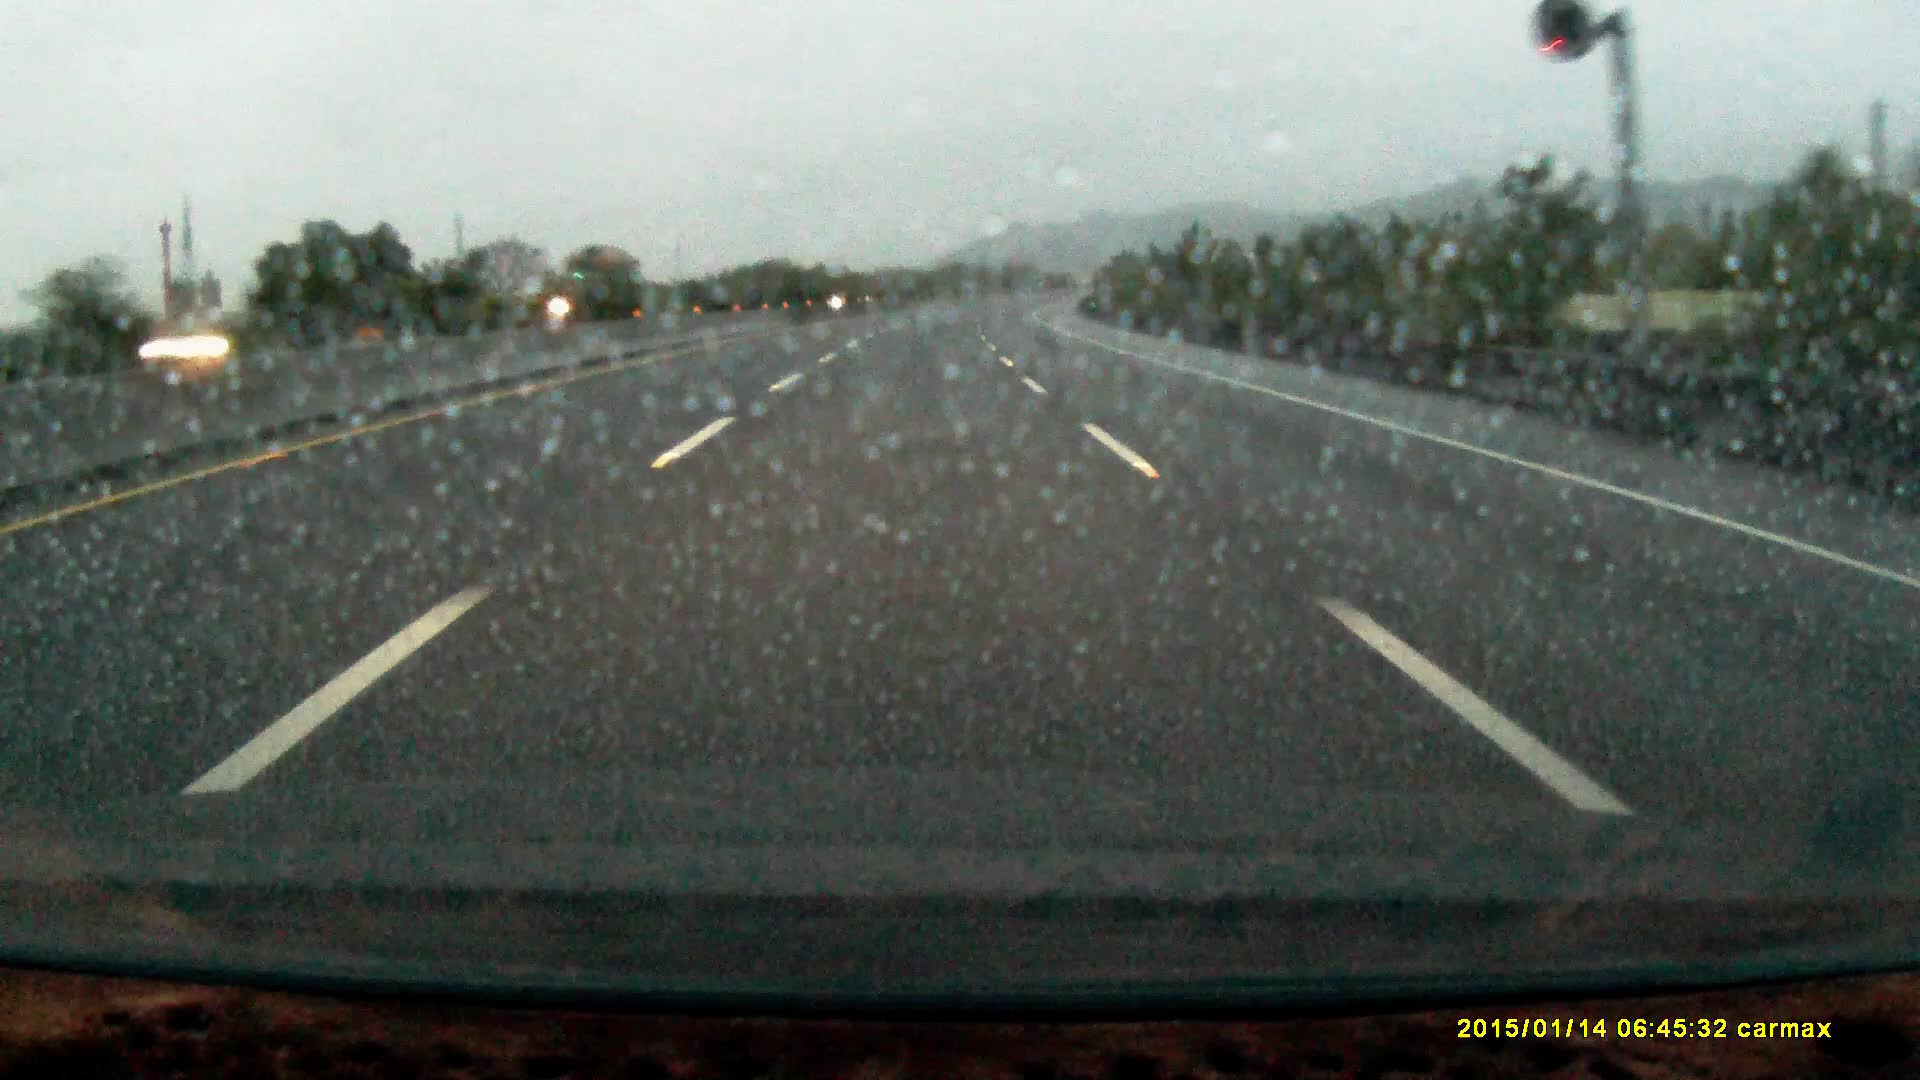vehicle: (549, 243, 645, 320)
